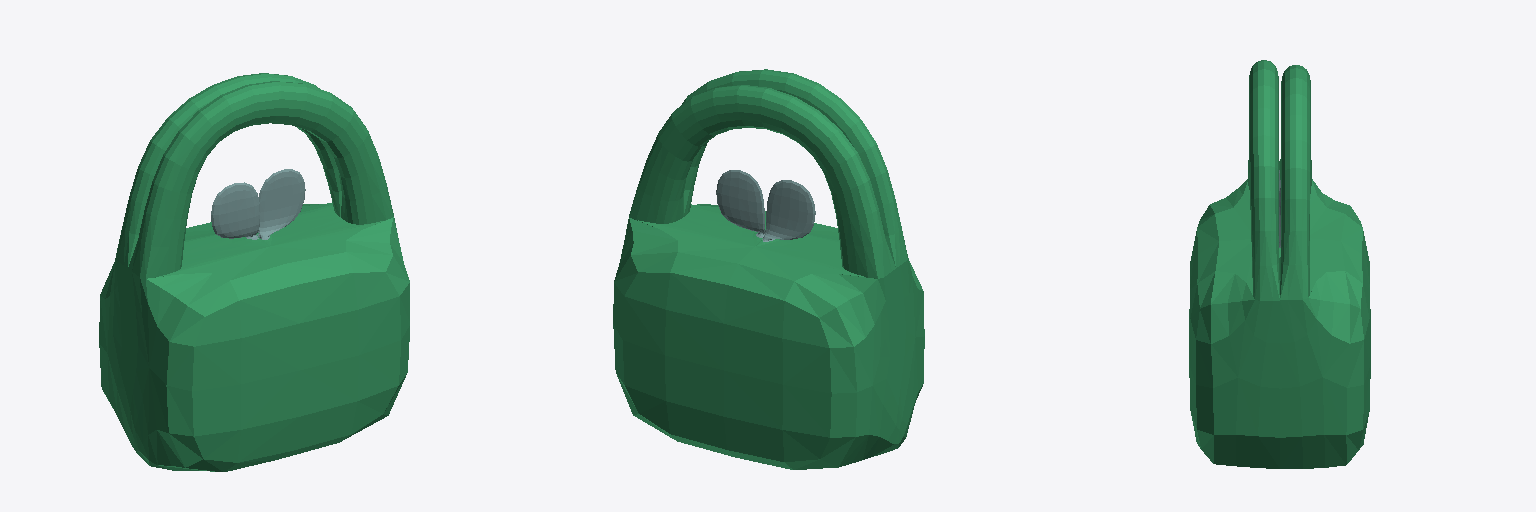
File: bag.obj
The picture shows the model from 3 angles: view 1: azimuth 30°, elevation 25°; view 2: azimuth 150°, elevation 25°; view 3: azimuth 270°, elevation 25°; orthographic projection.
Parts seen in each view (by area): view 1: Cube.012_Cube.793; view 2: Cube.012_Cube.793; view 3: Cube.012_Cube.793.
Boxes of the visible parts, <box> form: Cube.012_Cube.793: <box>99,73,409,471</box>; Cube.012_Cube.793: <box>613,69,924,469</box>; Cube.012_Cube.793: <box>1189,60,1370,468</box>.
Bounding box in the file's own units: 1.37 × 1.84 × 0.8445.